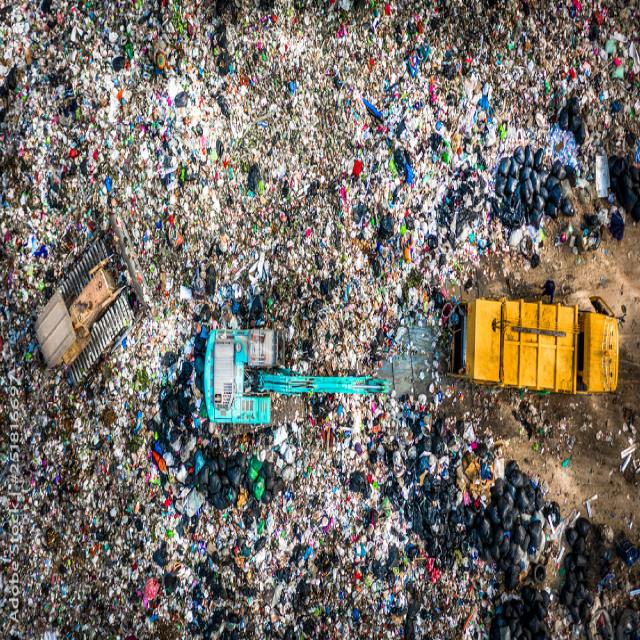trash: (16, 25, 482, 616)
